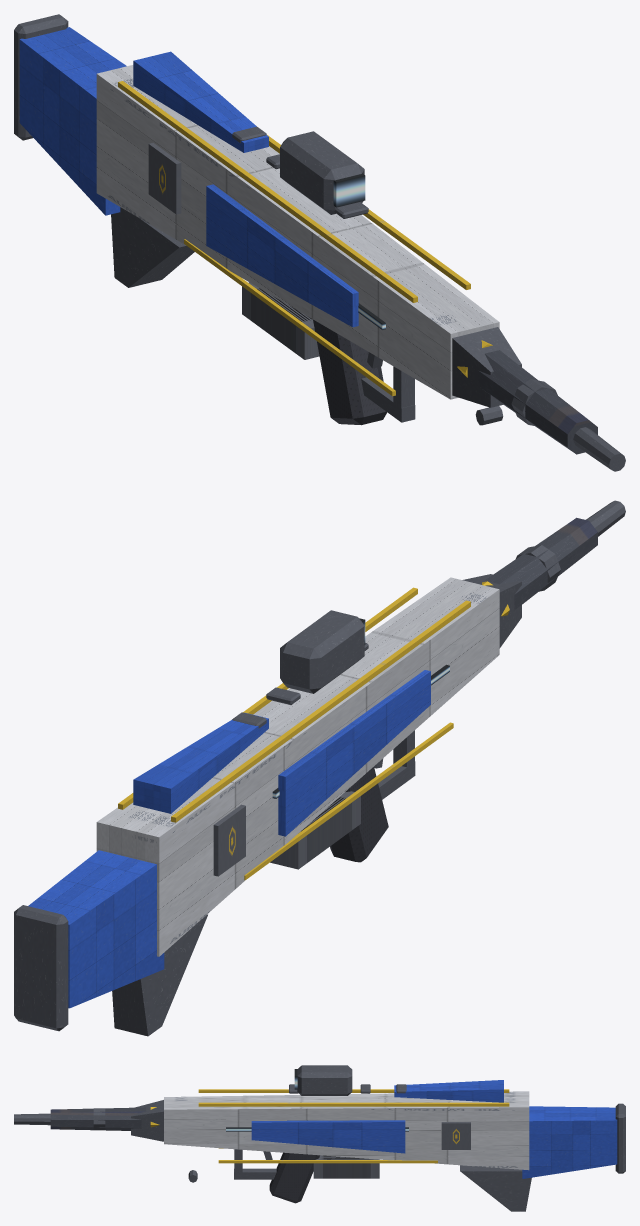
File: auc_carbine.obj
3 renders of one model, top to bottom at view 1: azimuth 30°, elevation 25°; view 2: azimuth 150°, elevation 25°; view 3: azimuth 270°, elevation 25°, orthographic. The views are drawn at different scales.
Visible parts, largest first — view 1: auc_carbine; view 2: auc_carbine; view 3: auc_carbine.
Boxes of the visible parts, x1,y1,x2,y2 form: auc_carbine: [14, 14, 625, 471]; auc_carbine: [14, 500, 625, 1036]; auc_carbine: [14, 1065, 625, 1211].
Bounding box in the file's own units: 0.076 × 0.209 × 0.837.
1 material, 1 textured.
